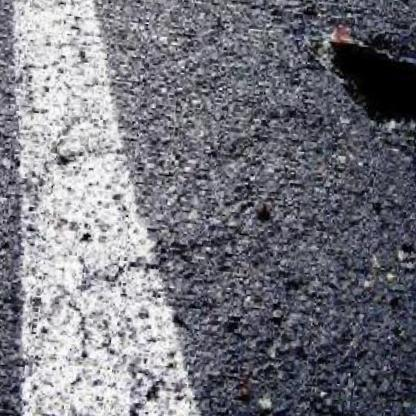pothole: (325, 31, 416, 135)
